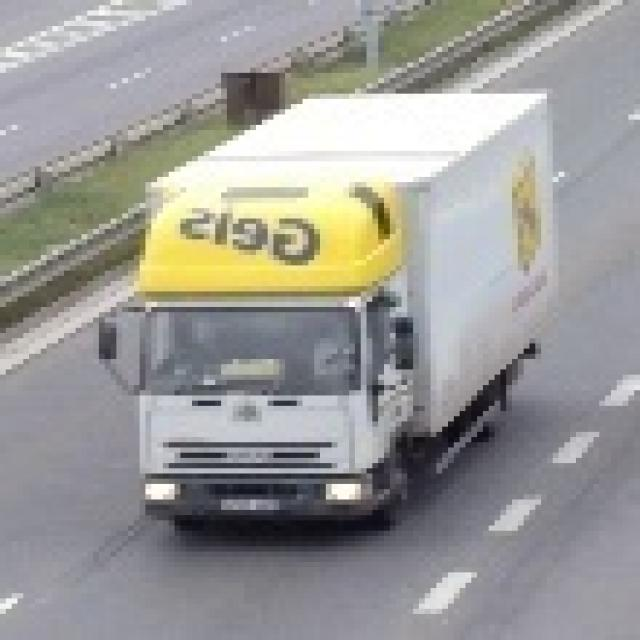truck: (87, 83, 547, 526)
